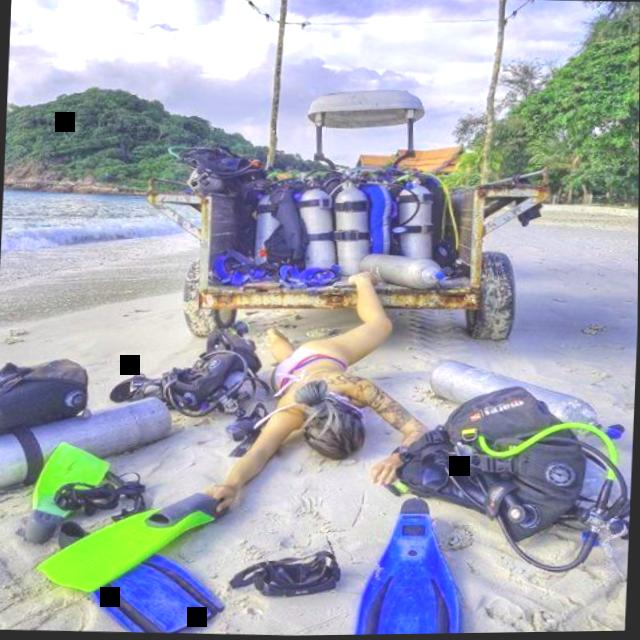Fall-Detected: (187, 246, 447, 531)
